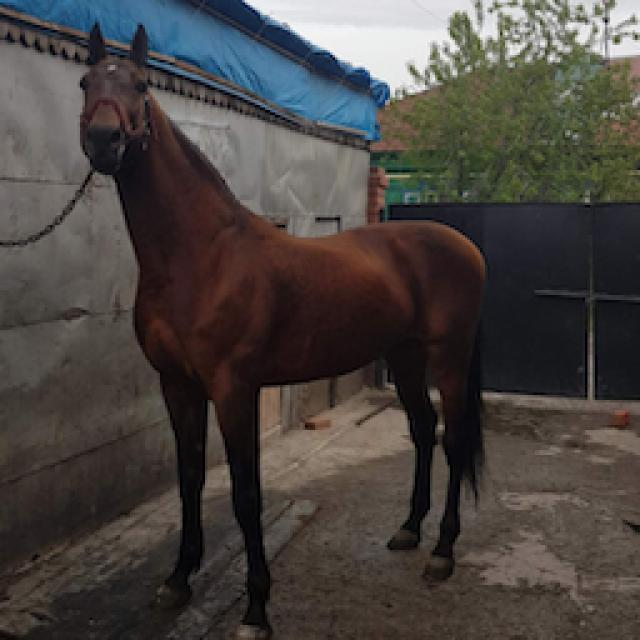Horse: (68, 15, 500, 638)
